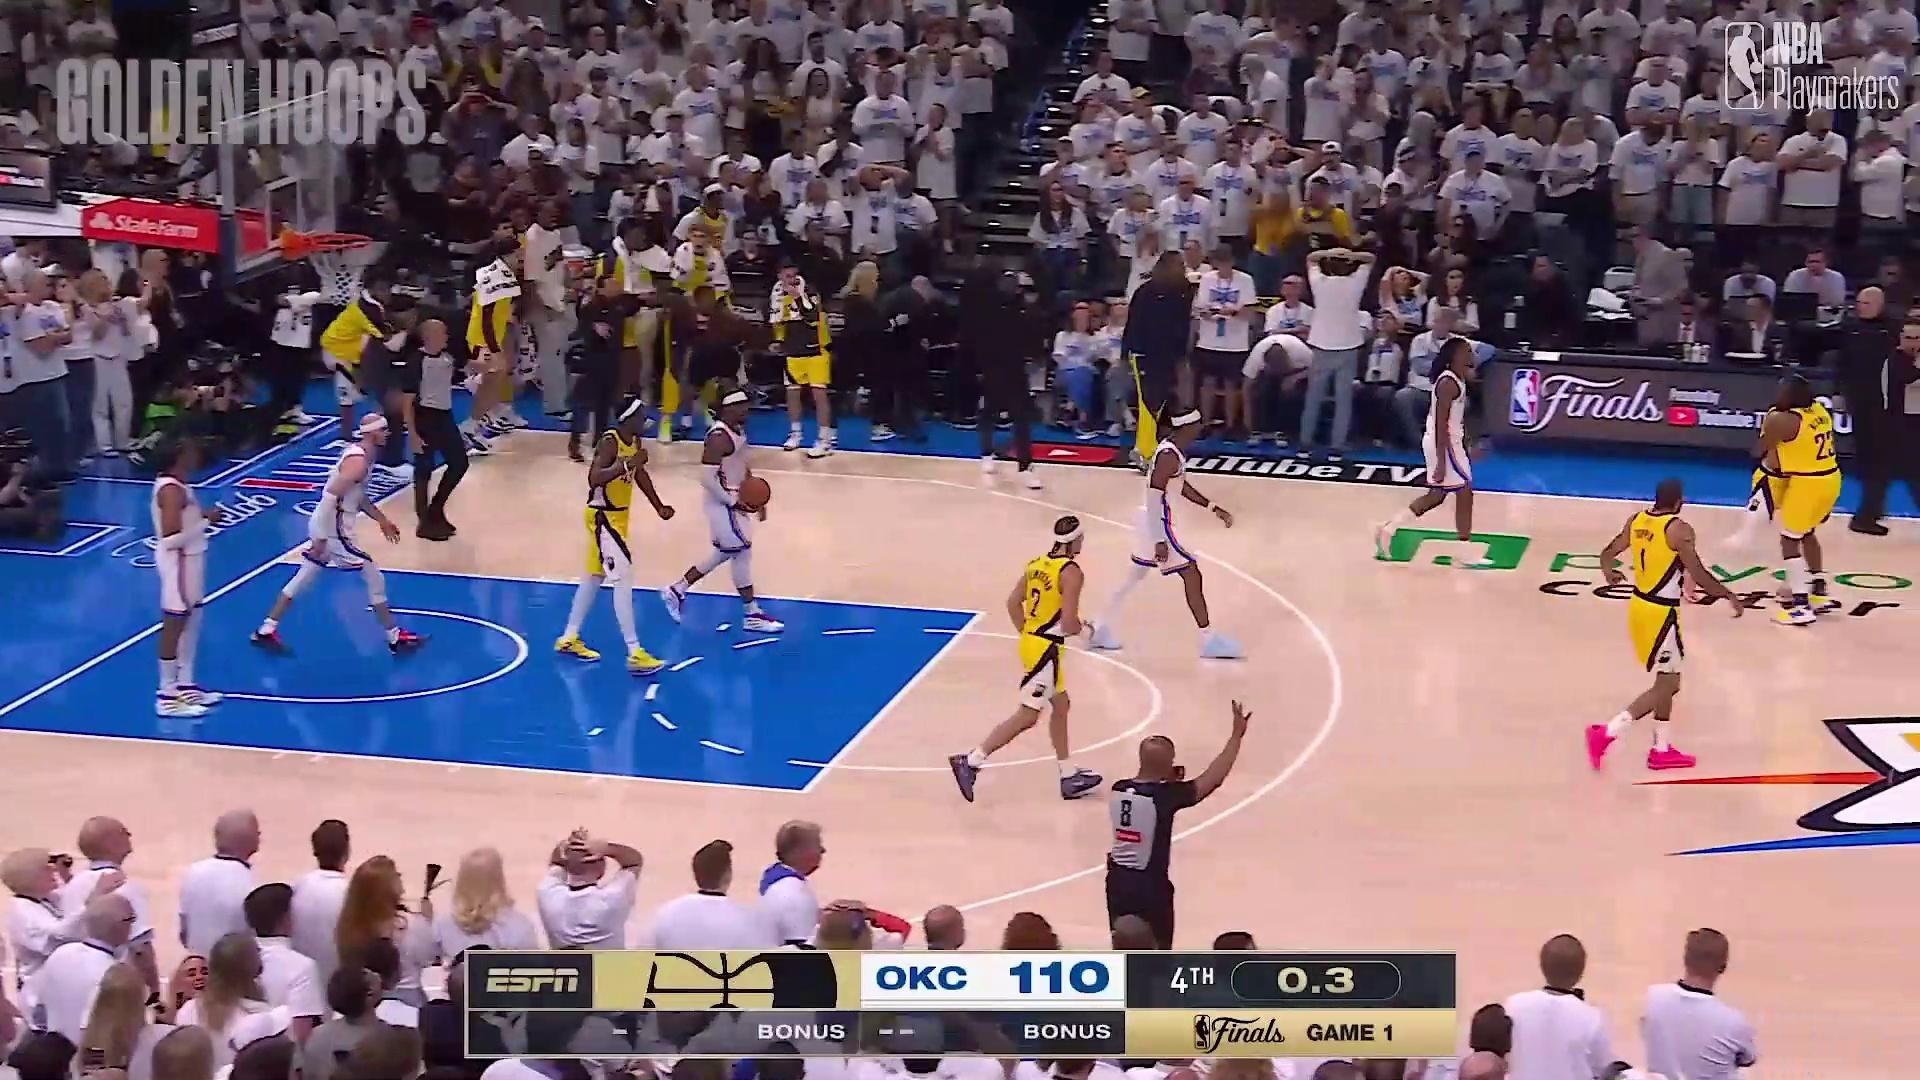ball: (732, 464, 775, 518)
hoop: (295, 219, 380, 309)
